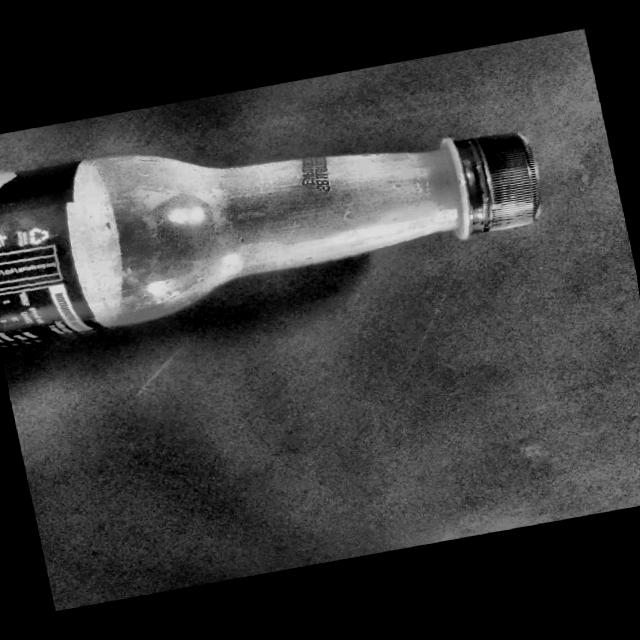Plastic-Bottle: (0, 71, 568, 357)
